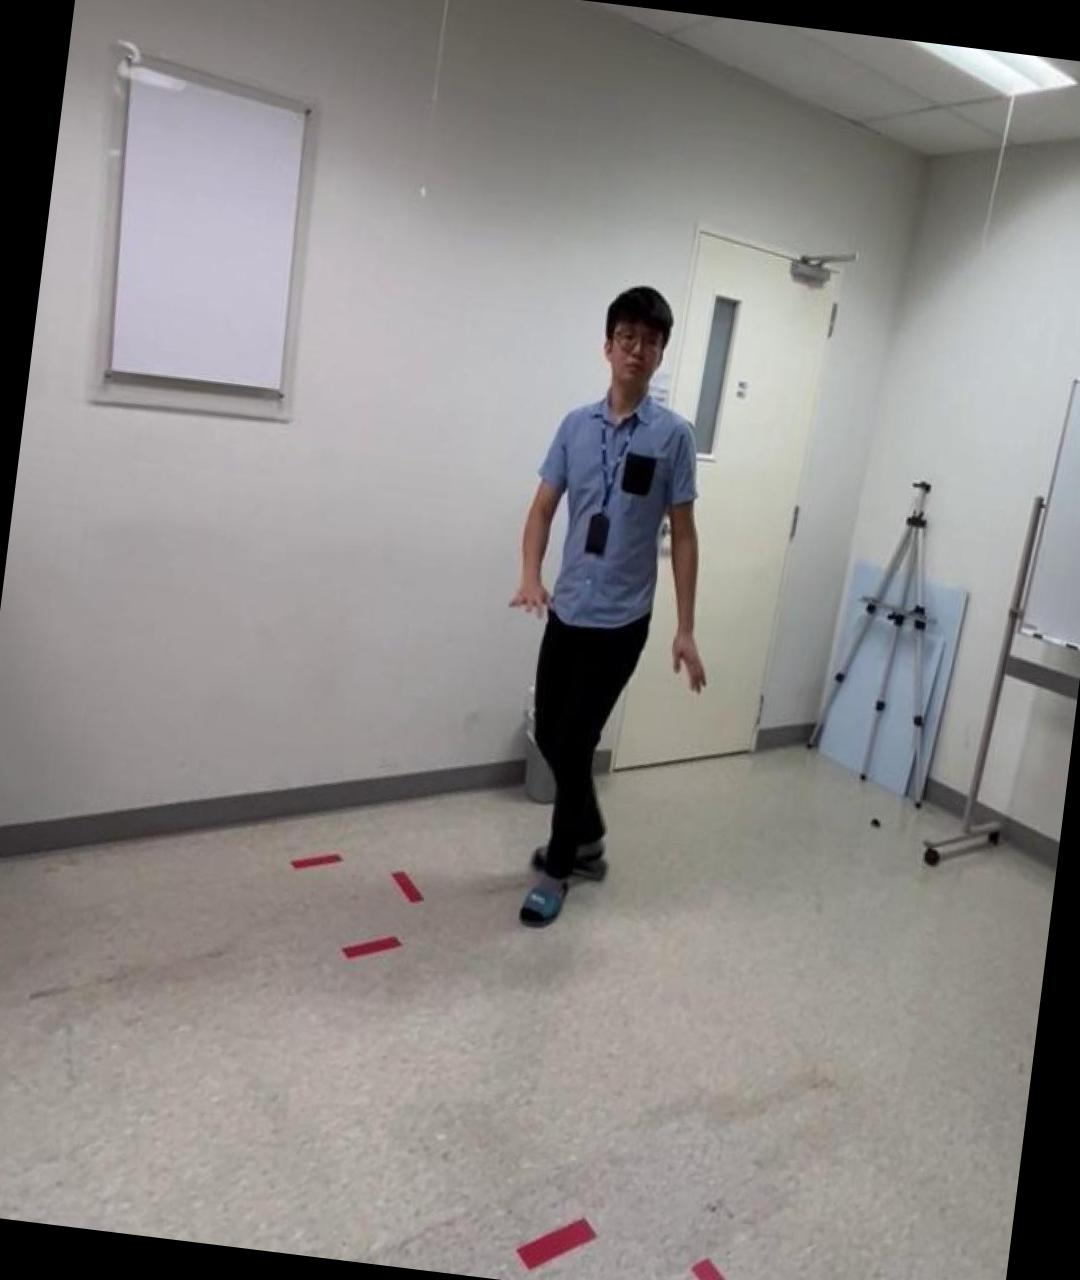No-gloves: (663, 620, 710, 695), (501, 569, 554, 621)
